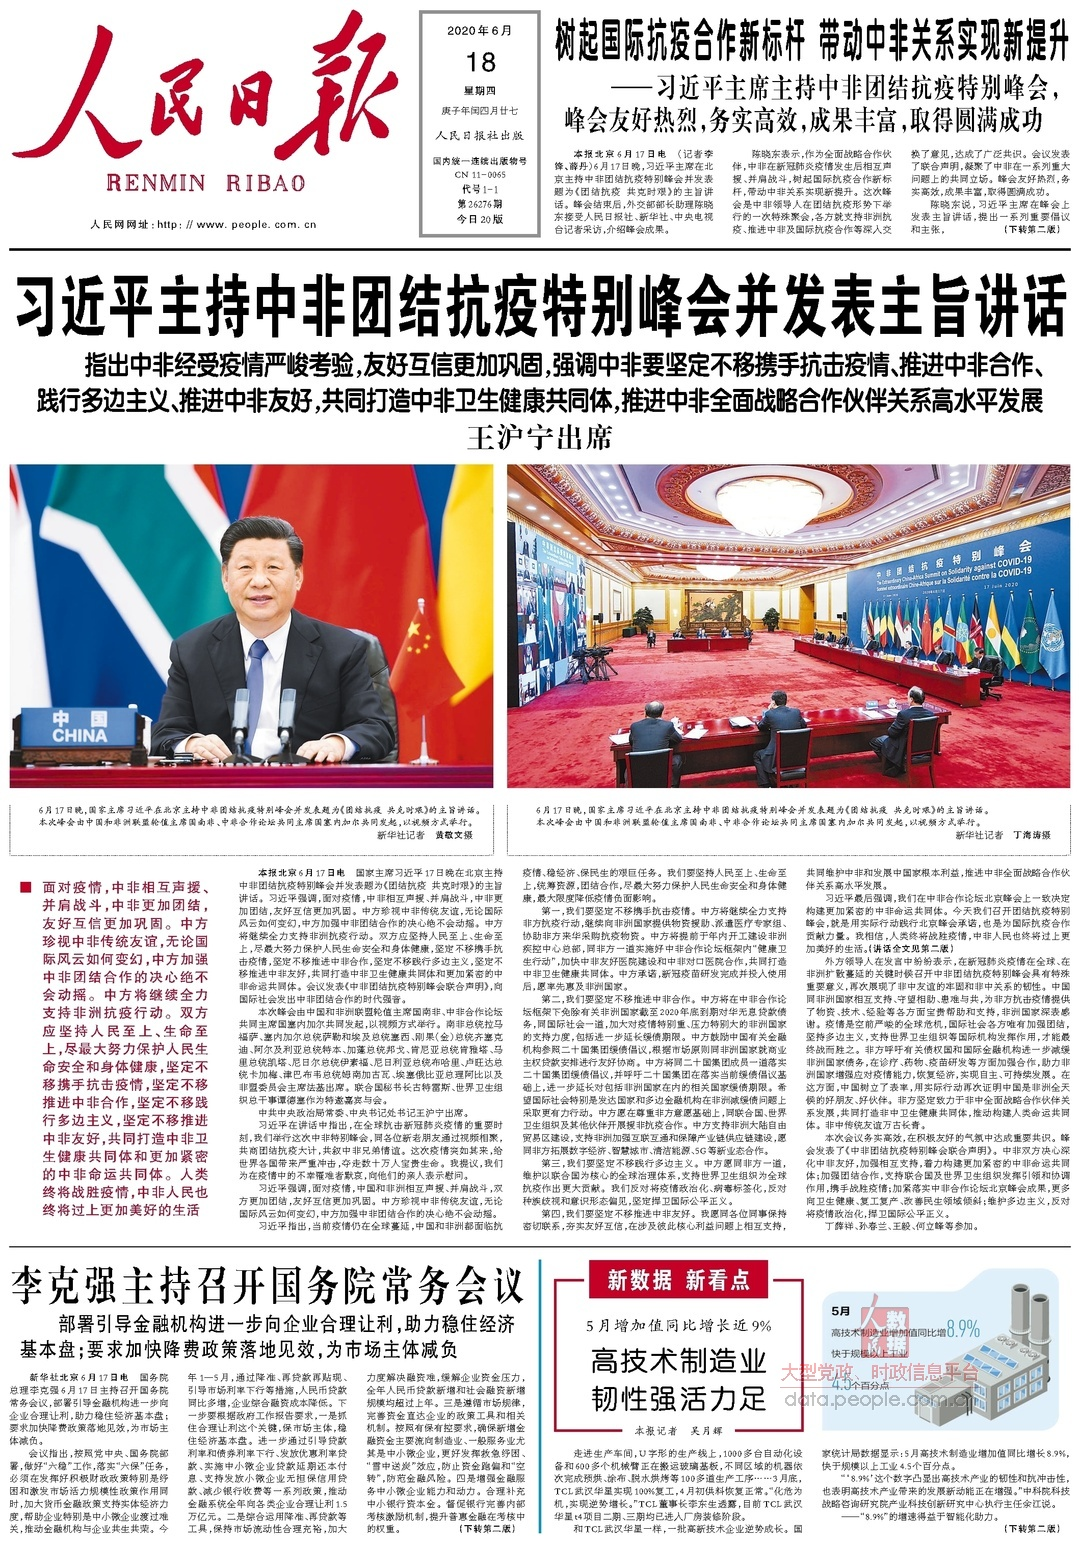pic: (502, 458, 1076, 796), (5, 460, 498, 794)
